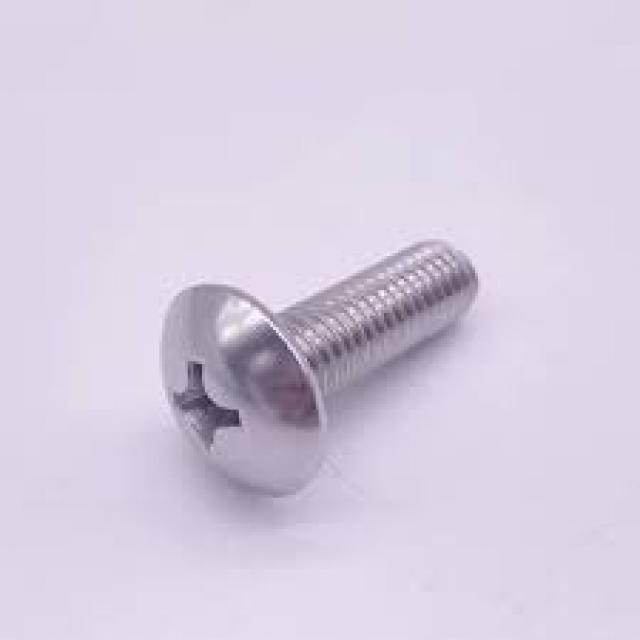Screw: (159, 239, 481, 495)
